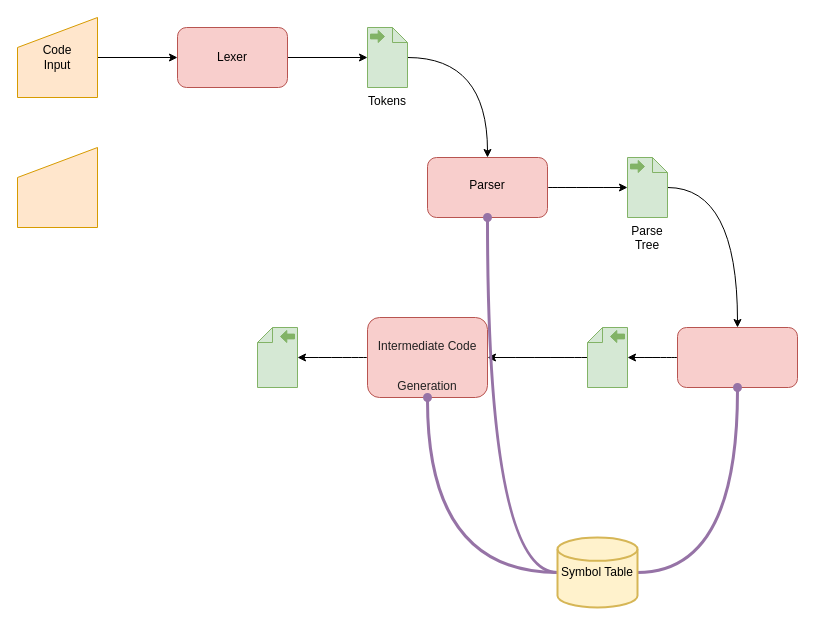
The diagram is 815 pixels wide and 626 high, and some of its shapes have lost their labels. Each missing label, with the box of its shape:
Assembly Code: (256, 326, 298, 388)
AST - Syntax Tree: (586, 326, 628, 388)
Flag Input: (16, 146, 98, 228)
Visitor: (676, 326, 798, 388)
